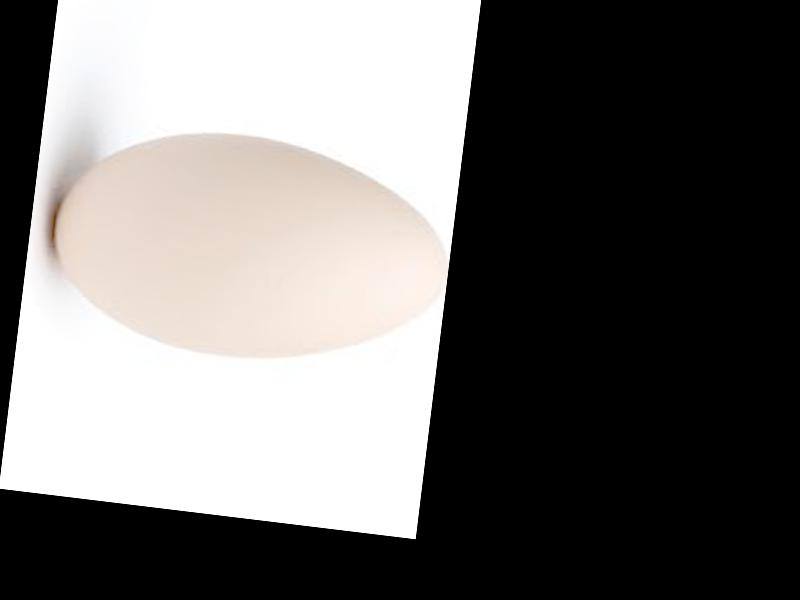Eggs: (37, 113, 458, 381)
